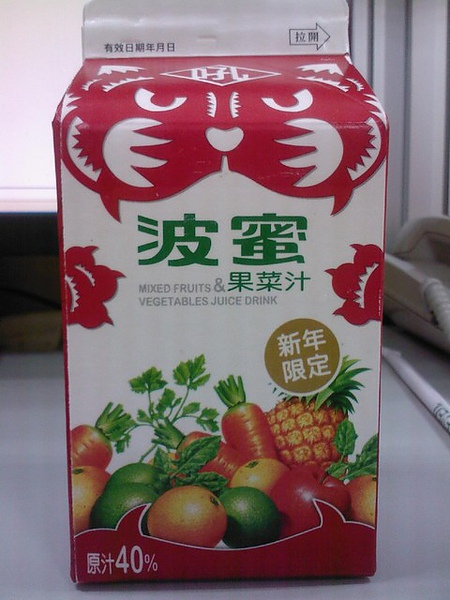vegetables juice: (52, 59, 382, 592)
